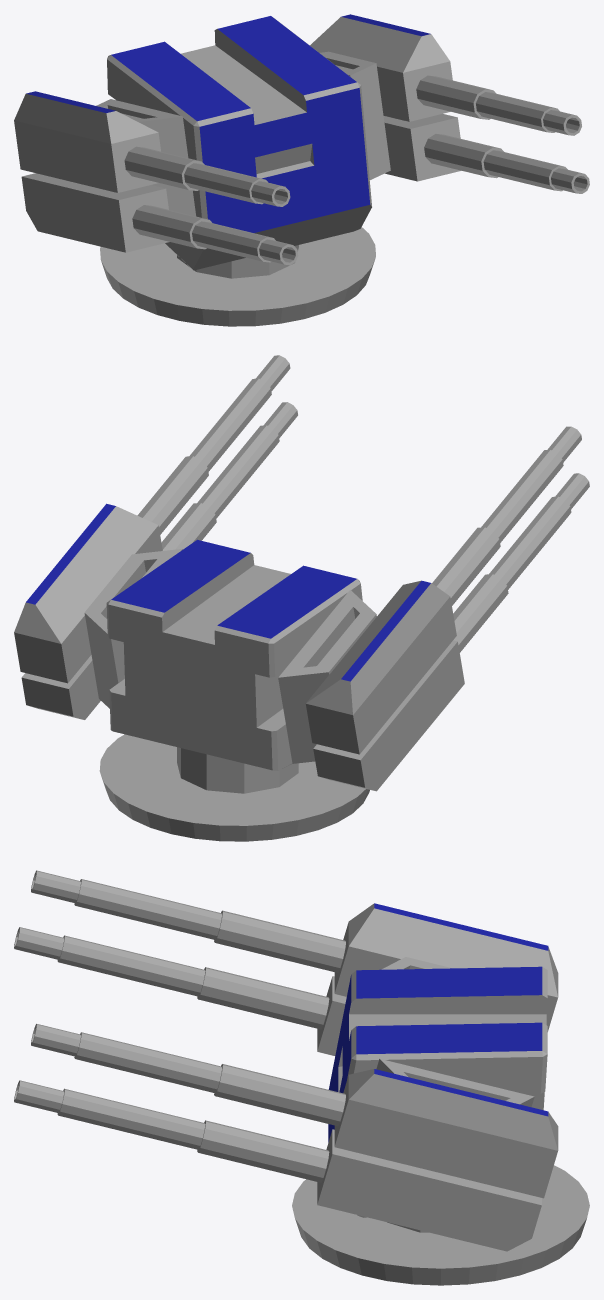
The model's file is turret.fbx.
The picture shows the model from 3 angles, top to bottom: view 1: azimuth 30°, elevation 25°; view 2: azimuth 150°, elevation 25°; view 3: azimuth 270°, elevation 25°; orthographic projection. The views are drawn at different scales.
Visible parts, largest first — view 1: cannon 02; view 2: cannon 02; view 3: cannon 02.
Part boxes in pixels (x1,y1,x2,y2): cannon 02: [14, 14, 589, 326]; cannon 02: [14, 355, 589, 841]; cannon 02: [14, 870, 589, 1285].
Size of the model in its own units: 296 by 215 by 404.
